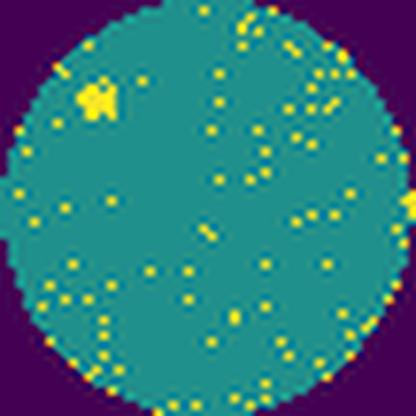Loc: (75, 76, 118, 124)
